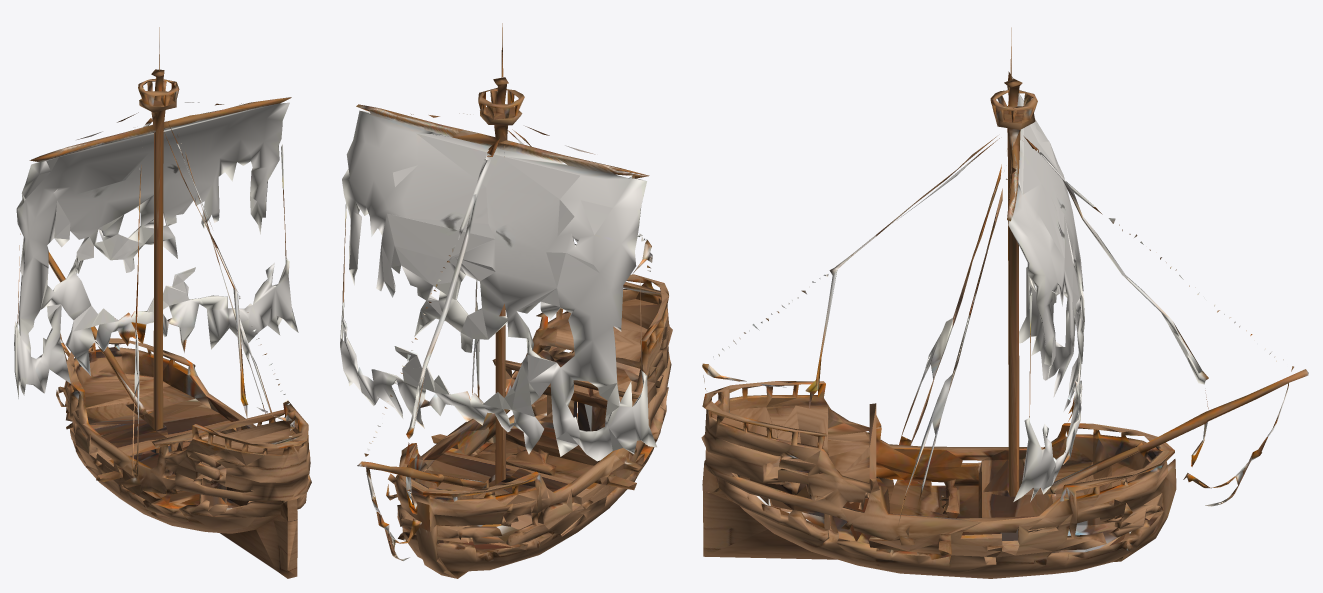
The model's file is shipbroken.fbx.
The picture shows the model from 3 angles, left to right: view 1: azimuth 30°, elevation 25°; view 2: azimuth 150°, elevation 25°; view 3: azimuth 270°, elevation 25°; orthographic projection. The views are drawn at different scales.
Parts seen in each view (by area): view 1: tripo_node_47e245b0; view 2: tripo_node_47e245b0; view 3: tripo_node_47e245b0.
Boxes of the visible parts, <box> form: tripo_node_47e245b0: <box>14,27,311,578</box>; tripo_node_47e245b0: <box>340,23,672,578</box>; tripo_node_47e245b0: <box>701,27,1308,578</box>.
Size of the model in its own units: 61.37 by 99.78 by 99.7.
1 material, 1 textured.
